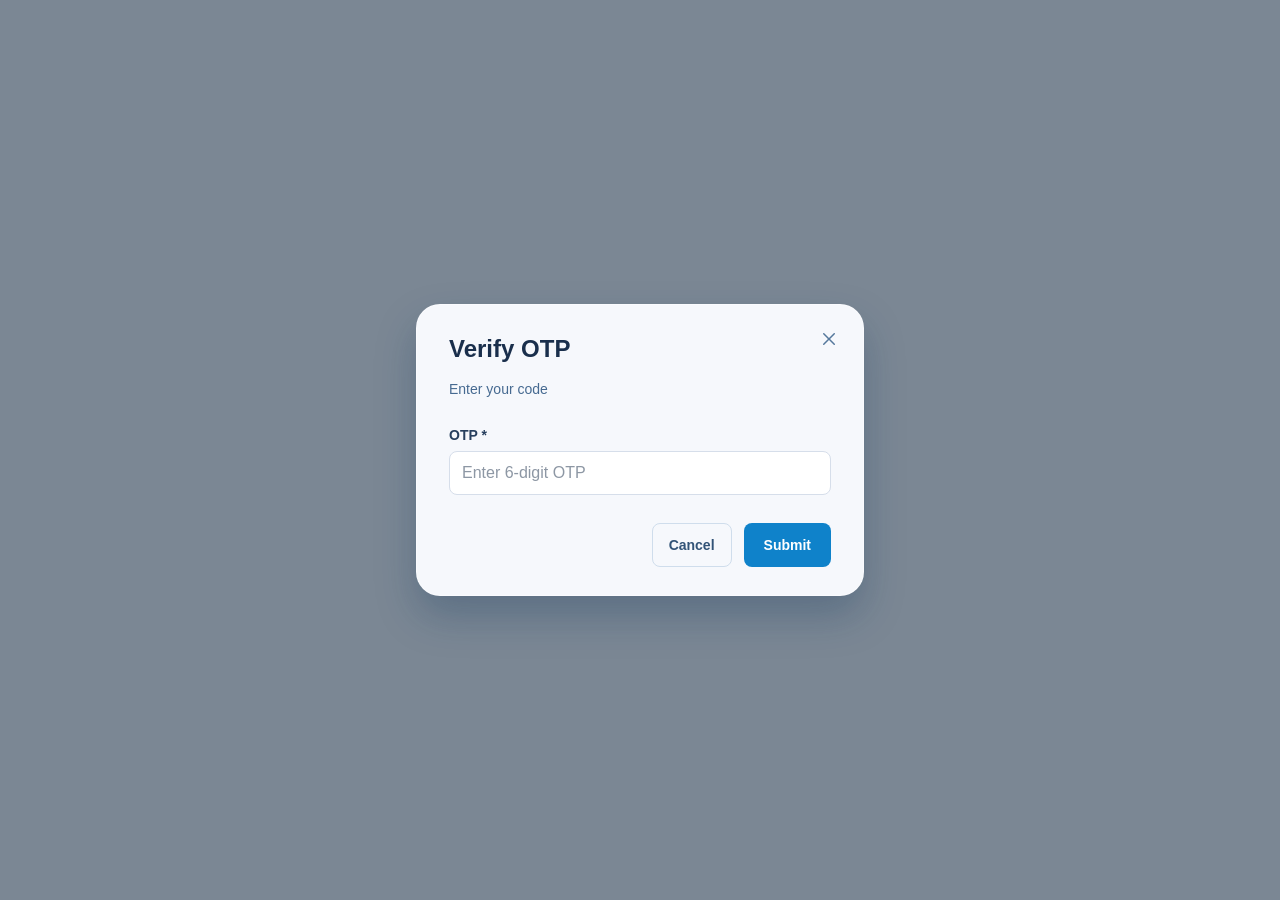
Test: OtpModal › shows validation error when OTP is empty
The image size is (1280, 900).
Click the button "Submit" at (787, 545), box [744,523,831,567]
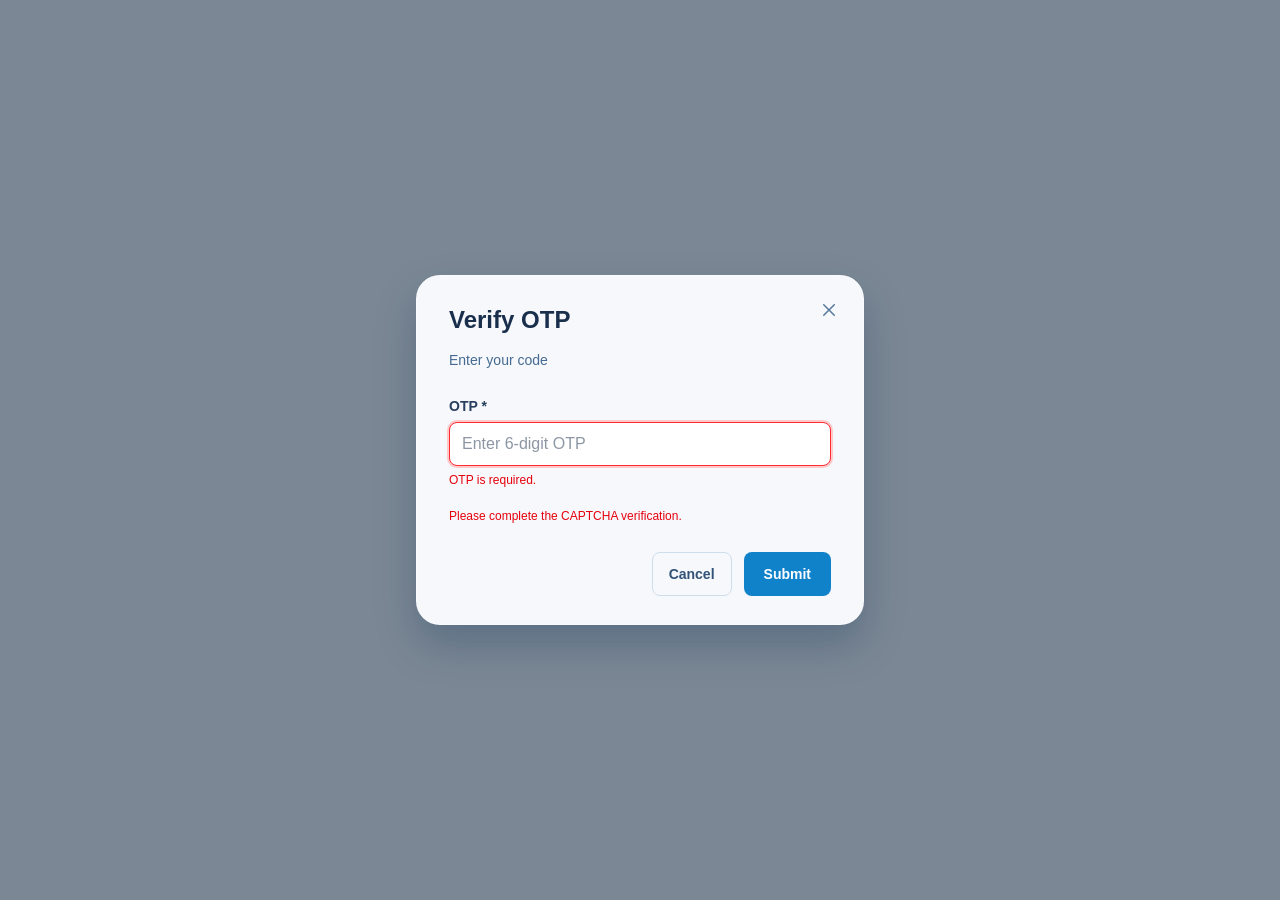
Check: the text "OTP is required." is shown, box [449,473,536,487]
